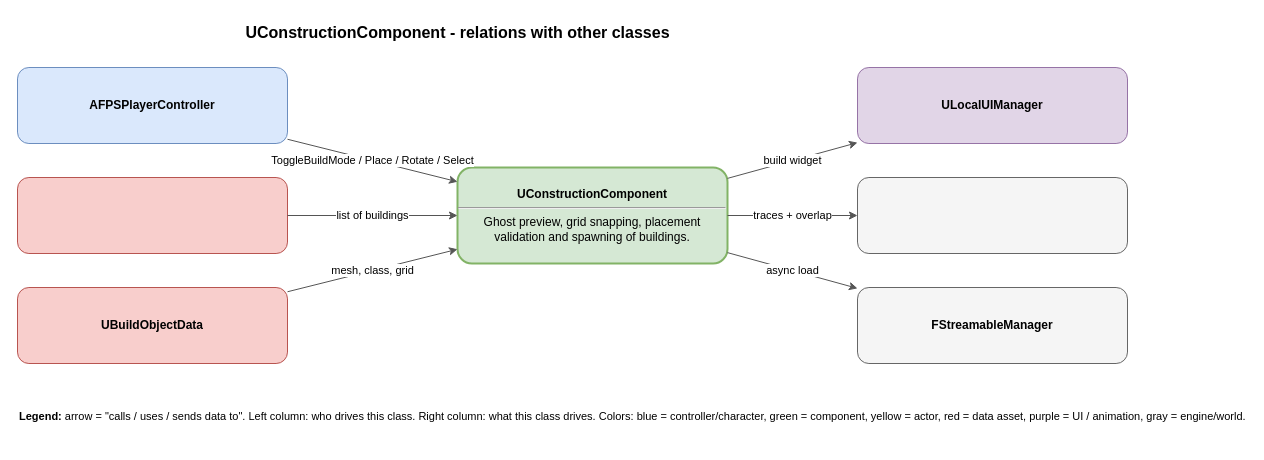
The diagram is 1264 pixels wide and 460 high, and some of its shapes have lost their labels. Here are the shapes that lost their labels. From the top down, the centre of each, then its label:
At (152,215): "UBuildLibraryData".
At (992,215): "UWorld".
